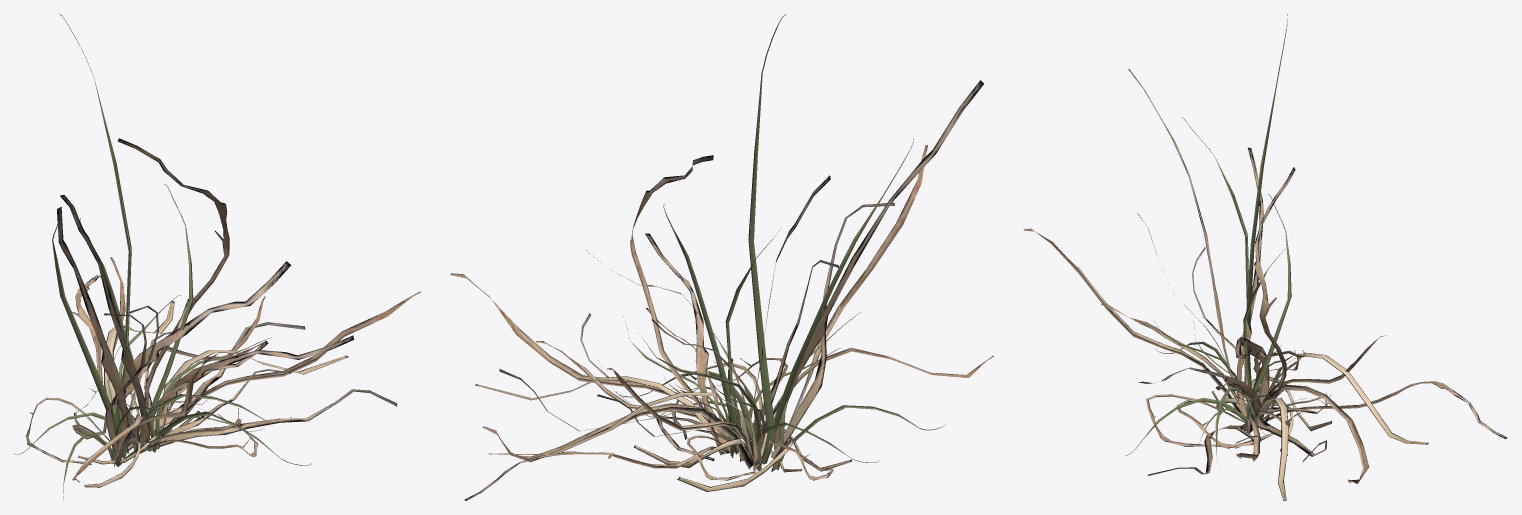
Rendered from capim_touceira_b.glb.
The picture shows the model from 3 angles, left to right: view 1: azimuth 30°, elevation 25°; view 2: azimuth 150°, elevation 25°; view 3: azimuth 270°, elevation 25°; orthographic projection. The views are drawn at different scales.
Visible parts, largest first — view 1: grass_medium_02_b; view 2: grass_medium_02_b; view 3: grass_medium_02_b.
Part boxes in pixels (<box>): grass_medium_02_b: <box>14,14,420,498</box>; grass_medium_02_b: <box>450,14,993,500</box>; grass_medium_02_b: <box>1023,14,1507,500</box>.
Size of the model in its own units: 0.1791 by 0.1796 by 0.1993.
Materials: 1 (1 with a texture image).
